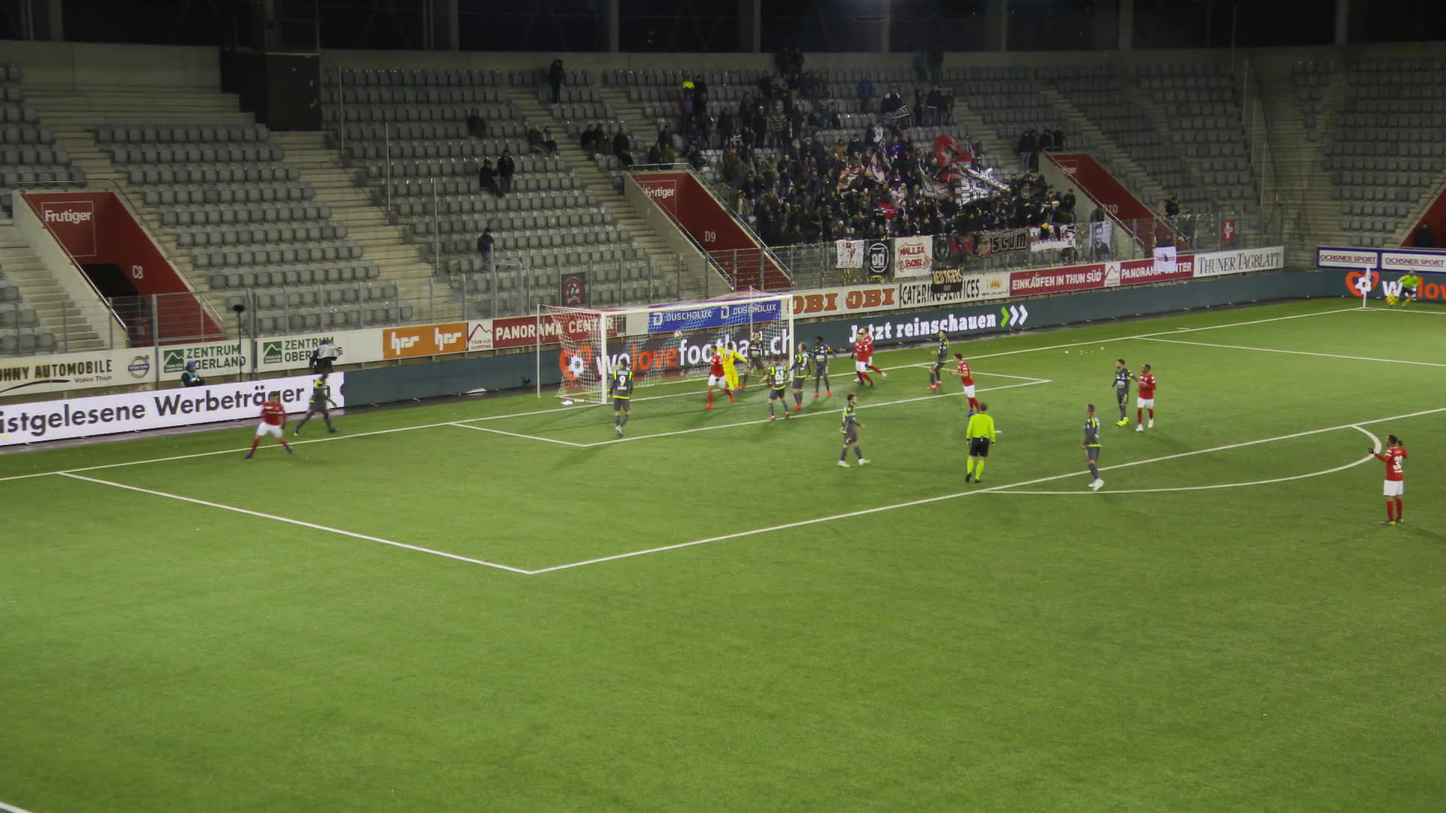ball: (673, 330, 683, 340)
player: (1365, 433, 1410, 526), (239, 389, 296, 461), (294, 366, 344, 437), (831, 391, 866, 467), (697, 343, 735, 410), (606, 356, 636, 438), (1076, 399, 1103, 490), (1106, 356, 1140, 428), (803, 333, 840, 399), (945, 352, 981, 419), (758, 352, 790, 422), (851, 327, 888, 384), (784, 340, 811, 411), (739, 330, 772, 388), (710, 341, 746, 394), (923, 327, 950, 391), (1133, 362, 1157, 432), (847, 331, 875, 389)
referee: (959, 399, 994, 486), (1383, 268, 1414, 310)
